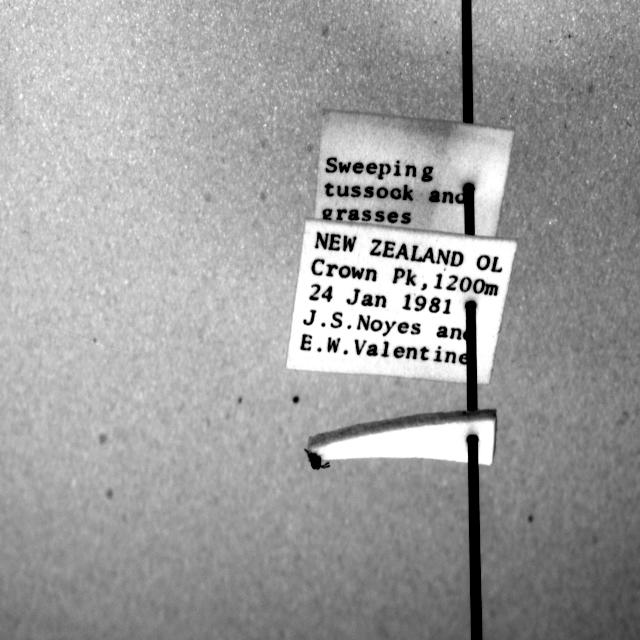typed_label: (286, 219, 516, 382), (315, 111, 514, 236)
